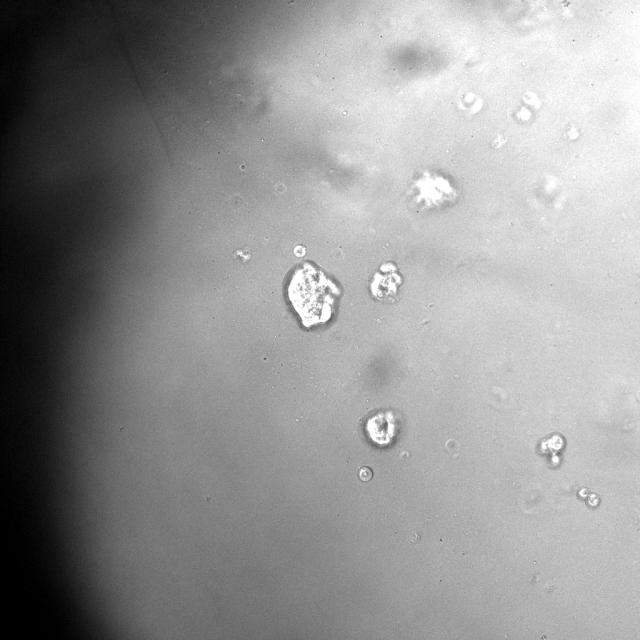organoid: (284, 260, 341, 329), (407, 167, 459, 211), (360, 408, 402, 449), (369, 262, 403, 302), (536, 431, 566, 468), (577, 487, 601, 508), (357, 465, 372, 482), (292, 244, 306, 258)
